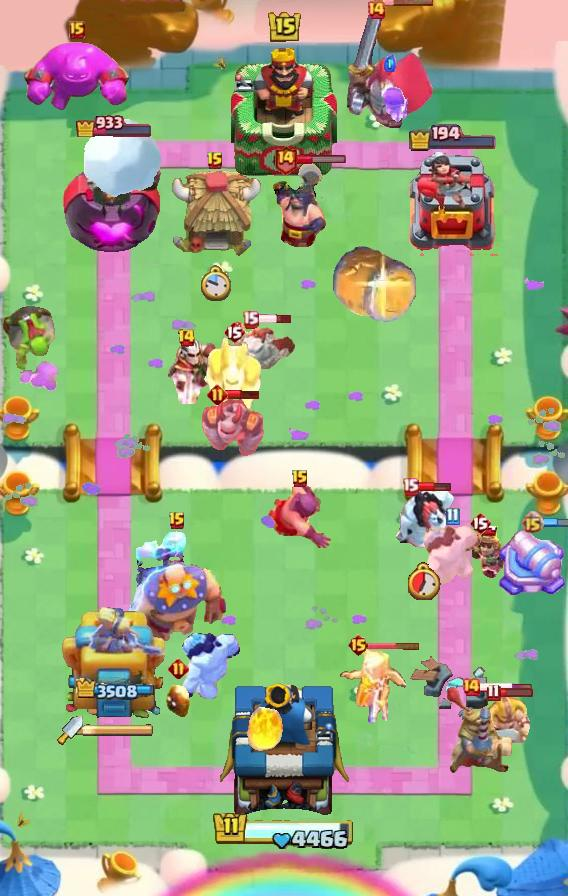bar: (60, 607, 168, 731)
bar-level: (0, 303, 58, 375)
bomber: (165, 684, 191, 718)
bomber-evolution: (454, 526, 505, 582)
clock: (212, 810, 356, 852)
clone: (22, 40, 132, 114)
dirt: (331, 245, 419, 325)
electro-spirit: (384, 56, 396, 73)
elixir: (407, 562, 441, 600), (199, 265, 231, 303)
elixir-golem-small: (204, 337, 264, 415), (200, 392, 268, 458)
emote: (479, 682, 533, 693), (296, 154, 347, 165), (367, 641, 421, 651), (255, 313, 292, 325), (225, 388, 261, 399), (416, 481, 452, 492), (498, 686, 534, 697), (383, 0, 435, 7), (542, 516, 568, 527)
goblin: (379, 85, 409, 125)
goblin-giant: (475, 694, 533, 746)
king-tower: (219, 678, 349, 826), (231, 43, 337, 181)
king-tower-bar: (83, 723, 155, 737)
little-prince: (124, 525, 230, 653)
mini-pekka: (223, 319, 297, 373)
monk: (271, 162, 329, 248), (267, 485, 333, 551)
poison: (332, 643, 416, 727)
prince: (168, 169, 262, 259)
queen-tower: (408, 152, 498, 256)
rage: (177, 630, 243, 704), (392, 486, 456, 552), (421, 525, 483, 593)
ram-rider: (444, 686, 524, 776)
royal-recruit: (497, 526, 568, 602)
selected: (408, 124, 498, 152), (74, 112, 154, 137), (74, 678, 154, 701)
skeleton-king: (149, 338, 223, 404)
text: (273, 144, 298, 175), (347, 633, 370, 657), (521, 510, 544, 533), (223, 320, 245, 344), (469, 511, 491, 535), (208, 383, 229, 405), (167, 658, 188, 679), (366, 0, 386, 20), (461, 677, 481, 697), (177, 328, 196, 348), (206, 151, 224, 171), (291, 469, 309, 489), (168, 511, 186, 531), (401, 477, 419, 496), (241, 311, 259, 329), (69, 21, 85, 39), (486, 682, 501, 701), (445, 507, 460, 525)
tower-bar: (62, 138, 166, 256)
valkyrie: (243, 695, 289, 753)
wall-breaker: (82, 116, 164, 198)
wall-breaker-evolution: (344, 0, 436, 134)
